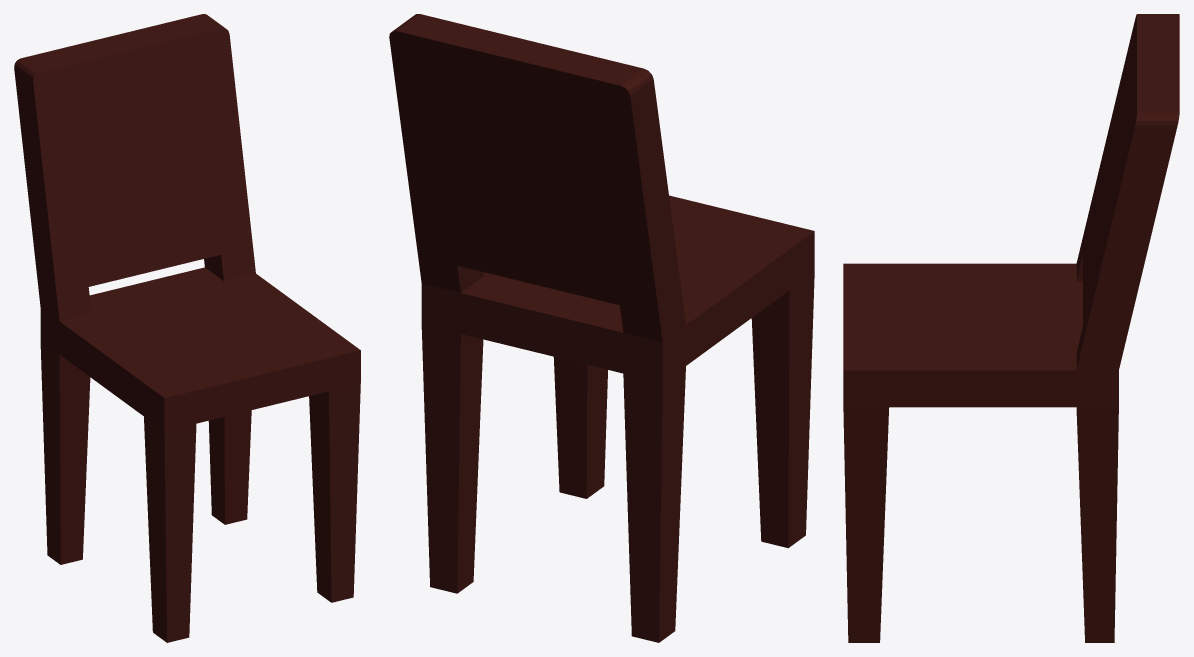
The model's file is cadeira.fbx.
3 renders of one model, left to right at view 1: azimuth 30°, elevation 25°; view 2: azimuth 150°, elevation 25°; view 3: azimuth 270°, elevation 25°, orthographic. The views are drawn at different scales.
Visible parts, largest first — view 1: Plane; view 2: Plane; view 3: Plane.
Boxes of the visible parts, x1,y1,x2,y2 form: Plane: (14,14,360,642); Plane: (389,14,814,642); Plane: (843,14,1179,642).
Bounding box in the file's own units: 66.17 × 153 × 88.24.
